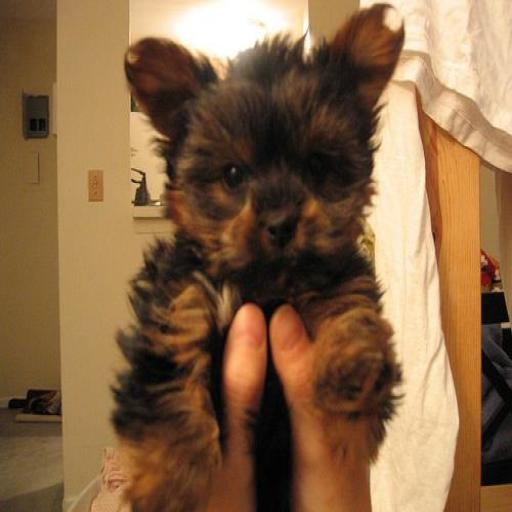dog_face: (128, 18, 402, 284)
